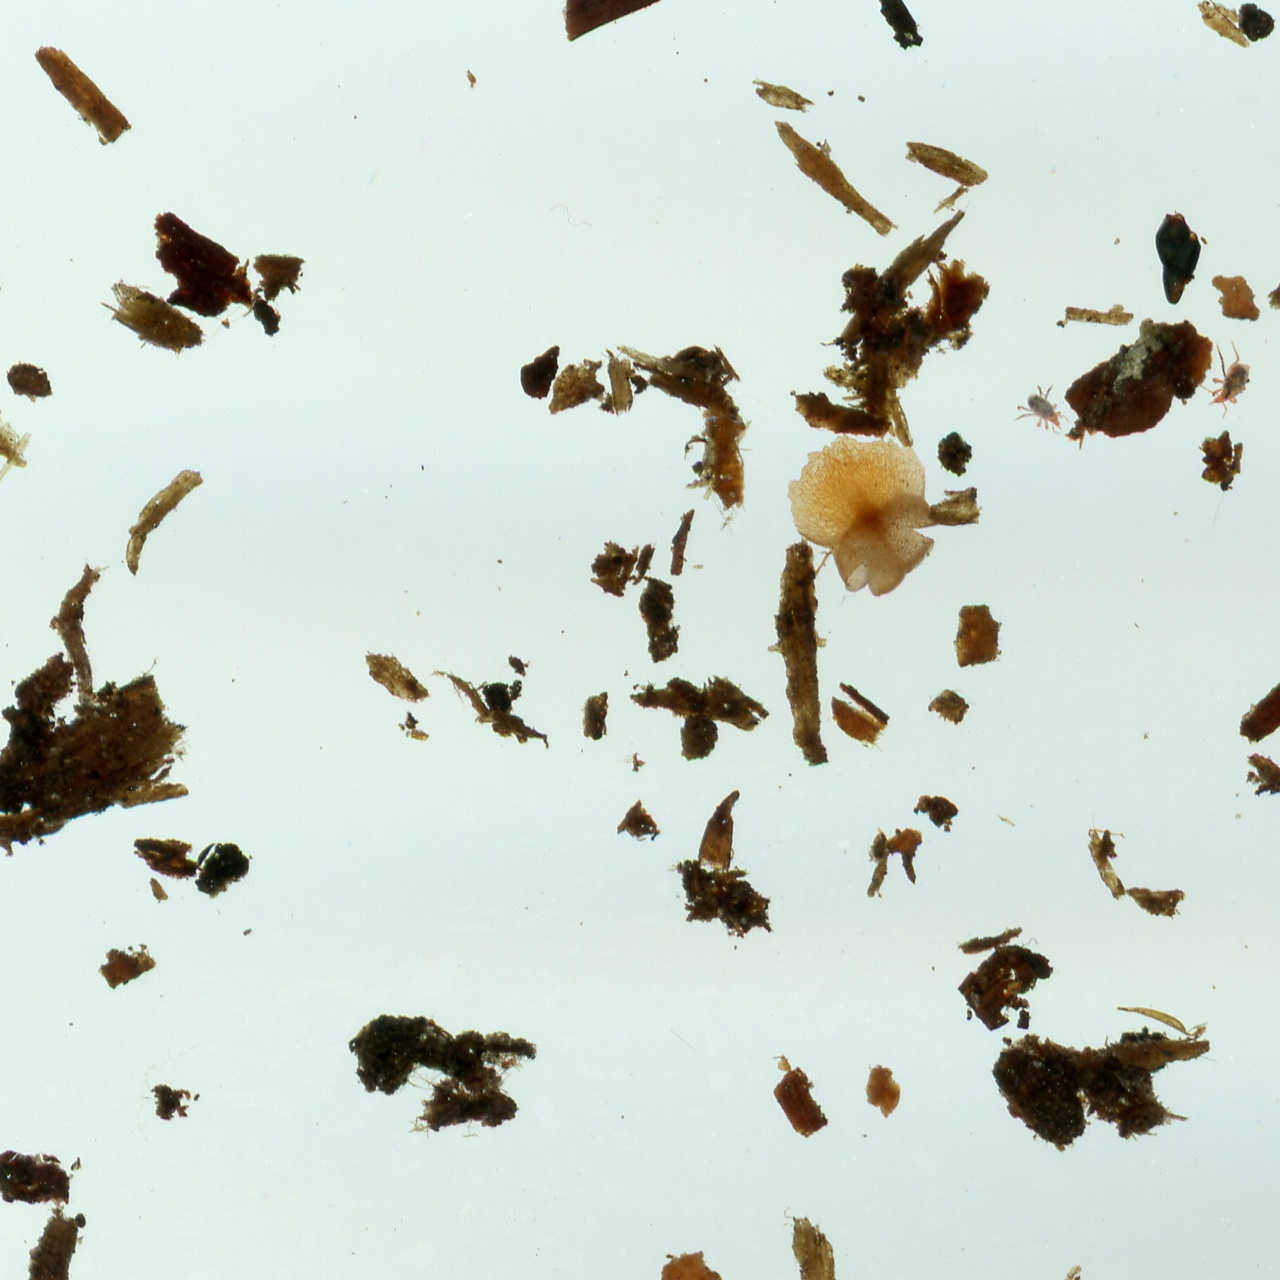arthropod: (1197, 336, 1253, 421), (1013, 382, 1070, 436)
